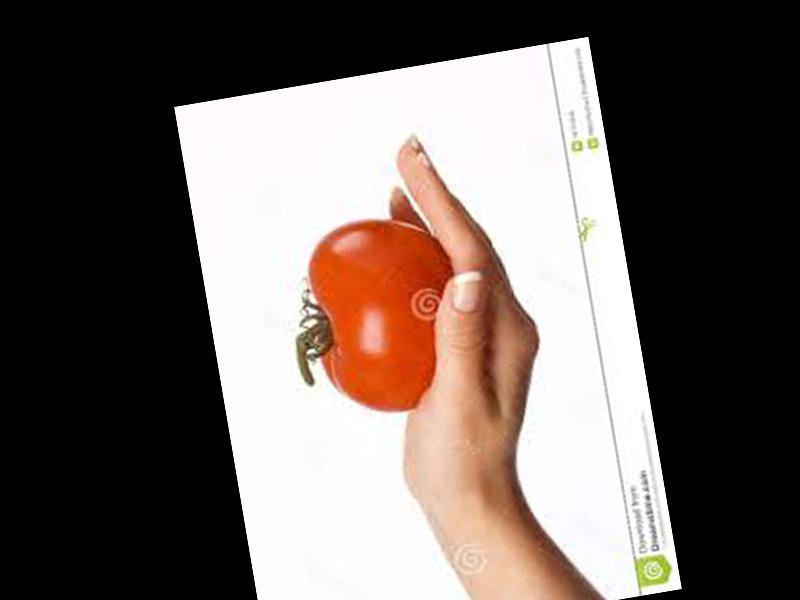Tomato: (299, 207, 473, 423)
